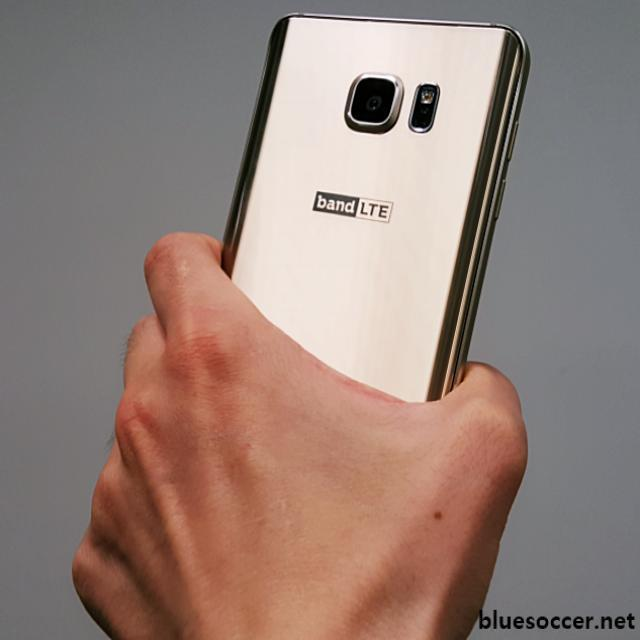lens: (344, 69, 438, 134)
phone: (209, 13, 533, 401)
